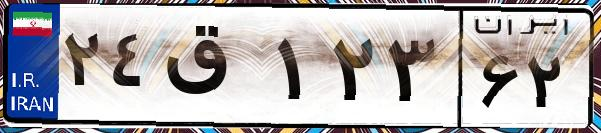1: (270, 28, 330, 110)
2: (330, 28, 385, 110), (57, 26, 110, 100), (525, 38, 570, 115)
3: (385, 28, 445, 110)
4: (110, 28, 158, 98)
6: (475, 38, 525, 113)
ق: (158, 20, 270, 120)
